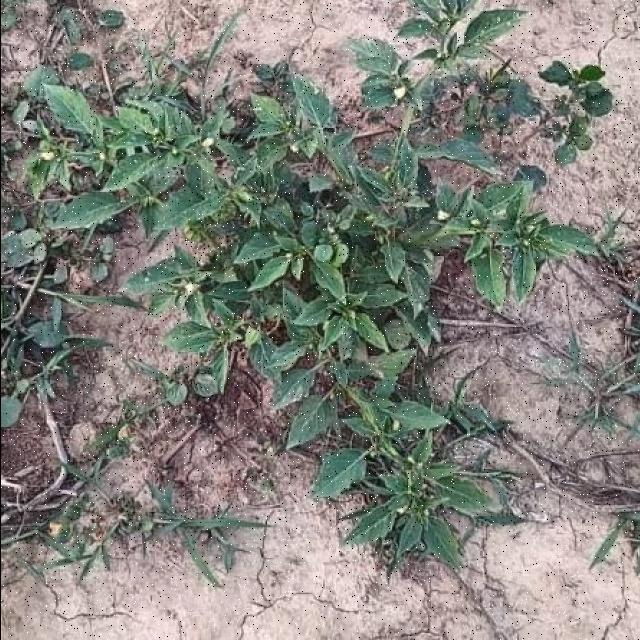weed: (0, 0, 613, 580)
